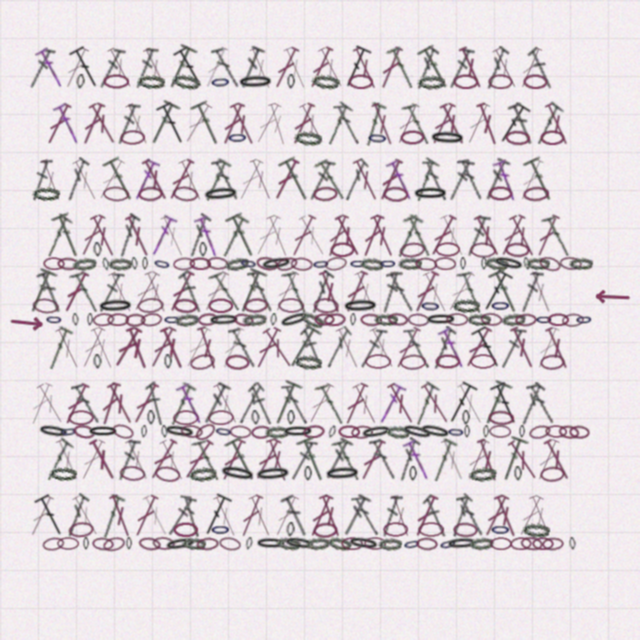chain: (218, 463, 257, 484), (278, 309, 312, 330), (202, 185, 240, 203), (254, 465, 292, 483), (400, 422, 434, 442), (418, 422, 452, 441), (324, 465, 361, 482), (492, 254, 525, 273), (360, 423, 393, 441), (164, 535, 197, 553), (237, 74, 274, 90), (429, 130, 466, 146), (97, 298, 134, 314), (342, 298, 379, 314), (193, 420, 218, 443), (171, 72, 201, 91), (260, 255, 293, 272), (37, 423, 70, 440), (163, 423, 196, 440), (283, 535, 316, 552), (347, 535, 380, 552), (412, 186, 449, 201), (299, 310, 326, 330), (189, 352, 216, 372), (188, 465, 217, 483), (468, 465, 497, 483), (311, 73, 340, 90), (172, 185, 199, 203), (399, 241, 426, 259), (32, 297, 59, 315), (154, 465, 181, 483), (446, 536, 478, 551), (224, 255, 250, 273), (137, 297, 164, 314), (119, 465, 146, 482), (111, 422, 135, 441), (417, 74, 445, 90), (294, 130, 322, 146), (208, 313, 240, 327), (294, 354, 322, 370), (522, 522, 550, 538), (243, 297, 269, 314), (313, 297, 339, 314), (68, 521, 94, 538), (275, 255, 299, 273), (538, 255, 562, 273), (528, 423, 552, 441), (102, 535, 126, 553), (327, 535, 352, 552), (137, 74, 165, 89), (32, 186, 60, 201), (452, 298, 480, 313), (49, 466, 77, 481), (103, 186, 129, 202), (523, 186, 549, 202), (470, 242, 496, 258), (425, 313, 457, 326), (400, 354, 426, 370), (488, 410, 514, 426), (87, 425, 119, 438), (282, 425, 314, 438), (255, 537, 287, 550), (255, 255, 279, 272), (324, 255, 348, 272), (72, 423, 96, 440), (505, 130, 530, 146), (138, 186, 163, 202), (313, 186, 338, 202), (383, 186, 408, 202), (505, 242, 530, 258), (72, 256, 97, 272), (173, 298, 198, 314), (174, 312, 199, 328), (225, 354, 250, 370), (540, 354, 565, 370), (540, 466, 565, 482), (313, 522, 338, 538), (453, 522, 478, 538), (103, 74, 129, 89), (278, 298, 304, 313), (365, 354, 391, 369), (470, 354, 496, 369), (68, 410, 94, 425), (173, 410, 199, 425), (208, 410, 234, 425), (418, 522, 444, 537), (218, 536, 242, 552), (348, 74, 373, 89), (453, 74, 478, 89), (488, 74, 513, 89), (523, 74, 548, 89), (120, 130, 145, 145), (400, 130, 425, 145), (540, 130, 565, 145), (488, 186, 513, 201), (330, 242, 355, 257), (435, 242, 460, 257), (484, 256, 509, 271), (208, 298, 233, 313), (242, 312, 267, 327), (501, 312, 526, 327), (435, 354, 460, 369), (173, 522, 198, 537), (383, 522, 408, 537), (276, 536, 301, 551), (305, 536, 330, 551), (469, 536, 494, 551), (232, 312, 255, 328), (42, 536, 65, 552), (138, 536, 161, 552), (558, 424, 580, 440), (206, 256, 229, 271), (559, 256, 582, 271), (92, 312, 115, 327), (140, 312, 163, 327), (323, 312, 346, 327), (480, 312, 503, 327), (180, 424, 203, 439), (302, 424, 325, 439), (152, 536, 175, 551), (520, 536, 543, 551), (210, 74, 231, 90), (367, 130, 388, 146), (108, 257, 132, 271), (360, 257, 384, 271), (420, 298, 441, 314), (265, 425, 289, 439), (386, 425, 410, 439), (378, 537, 402, 551), (197, 312, 219, 327), (387, 312, 409, 327), (290, 257, 313, 271), (407, 313, 430, 327), (229, 425, 252, 439), (196, 537, 219, 551), (152, 256, 172, 272), (402, 536, 422, 552), (438, 536, 458, 552), (227, 130, 248, 145), (490, 298, 511, 313), (210, 522, 231, 537), (490, 522, 511, 537), (398, 257, 422, 270), (526, 257, 550, 270), (569, 257, 593, 270), (374, 313, 398, 326), (467, 313, 491, 326), (182, 537, 206, 550), (57, 257, 79, 271), (173, 257, 195, 271), (415, 257, 437, 271), (360, 313, 382, 327), (515, 313, 537, 327), (562, 313, 584, 327), (351, 425, 373, 439), (92, 537, 114, 551), (416, 537, 438, 551), (542, 537, 564, 551), (125, 313, 146, 327), (251, 425, 272, 439), (569, 425, 590, 439), (43, 257, 65, 270), (189, 257, 211, 270), (434, 257, 456, 270), (107, 313, 129, 326), (446, 313, 468, 326), (547, 313, 569, 326), (338, 425, 360, 438), (489, 425, 511, 438), (545, 425, 567, 438), (57, 537, 79, 550), (341, 537, 363, 550), (364, 537, 386, 550), (490, 537, 512, 550), (510, 537, 532, 550), (532, 537, 554, 550), (239, 256, 258, 271), (59, 424, 78, 439), (214, 424, 233, 439), (314, 313, 335, 326), (312, 257, 330, 271), (447, 425, 465, 439), (349, 257, 367, 270), (379, 257, 397, 270), (45, 313, 63, 326), (163, 313, 181, 326), (535, 313, 553, 326), (575, 313, 593, 326), (327, 425, 337, 439), (76, 74, 85, 89), (93, 242, 102, 257), (93, 354, 102, 369), (251, 410, 260, 425), (286, 522, 295, 537), (287, 74, 295, 89), (199, 242, 207, 257), (164, 354, 172, 369), (147, 410, 155, 425), (287, 410, 295, 425), (462, 410, 470, 425), (304, 466, 312, 481), (409, 466, 417, 481), (514, 466, 522, 481), (102, 257, 110, 271), (523, 257, 531, 270), (245, 537, 253, 550), (131, 257, 138, 270), (72, 313, 79, 326), (270, 313, 277, 326), (161, 425, 168, 438), (569, 537, 576, 550), (142, 257, 148, 270), (460, 257, 466, 270), (481, 257, 487, 270), (87, 313, 93, 326), (350, 313, 356, 326), (141, 425, 147, 438), (464, 425, 470, 438), (483, 425, 489, 438), (519, 425, 525, 438), (83, 537, 89, 550), (126, 537, 132, 550)
double: (284, 324, 322, 371), (494, 101, 532, 147), (172, 44, 209, 91), (417, 44, 454, 91), (102, 156, 139, 203), (224, 436, 261, 483), (68, 44, 104, 91), (145, 100, 181, 147), (278, 156, 314, 203), (478, 268, 514, 315), (470, 324, 506, 371), (443, 380, 479, 427), (33, 492, 69, 539), (163, 44, 198, 91), (155, 100, 190, 147), (190, 100, 225, 147), (523, 156, 558, 203), (225, 212, 260, 259), (488, 268, 523, 315), (208, 269, 244, 314), (180, 437, 216, 482), (313, 157, 348, 203), (339, 44, 373, 91), (51, 212, 85, 259), (24, 268, 58, 315), (234, 268, 268, 315), (269, 380, 303, 427), (479, 380, 513, 427), (489, 380, 523, 427), (296, 436, 330, 483), (199, 492, 233, 539), (260, 326, 296, 370), (505, 438, 541, 482), (180, 101, 215, 146), (295, 213, 330, 258), (443, 269, 478, 314), (110, 325, 145, 370), (33, 381, 68, 426), (418, 381, 453, 426), (531, 101, 565, 147), (216, 213, 250, 259), (314, 381, 348, 427), (41, 437, 75, 483), (86, 101, 120, 146), (251, 101, 285, 146), (94, 157, 128, 202), (129, 269, 163, 314), (461, 325, 495, 370), (384, 381, 418, 426), (86, 437, 120, 482), (146, 437, 180, 482), (69, 493, 103, 538), (139, 45, 172, 91), (489, 45, 522, 91), (401, 101, 434, 147), (69, 157, 102, 203), (199, 157, 232, 203), (234, 157, 267, 203), (41, 213, 74, 259), (391, 213, 424, 259), (506, 213, 539, 259), (541, 213, 574, 259), (59, 269, 92, 315), (69, 269, 102, 315), (419, 269, 452, 315), (251, 325, 284, 371), (391, 325, 424, 371), (164, 381, 197, 427), (199, 381, 232, 427), (349, 381, 382, 427), (76, 437, 109, 483), (156, 437, 189, 483), (191, 437, 224, 483), (331, 437, 364, 483), (356, 437, 389, 483), (339, 493, 372, 539), (514, 493, 547, 539), (497, 436, 529, 483), (34, 45, 67, 90), (104, 45, 137, 90), (296, 101, 329, 146), (139, 157, 172, 202), (164, 157, 197, 202), (251, 213, 284, 258), (426, 213, 459, 258), (471, 213, 504, 258), (146, 325, 179, 370), (181, 325, 214, 370), (366, 325, 399, 370), (104, 381, 137, 426), (129, 381, 162, 426), (304, 381, 337, 426), (454, 381, 487, 426), (251, 437, 284, 482), (321, 437, 354, 482), (541, 437, 574, 482), (60, 45, 92, 91), (270, 45, 302, 91), (385, 45, 417, 91), (42, 101, 74, 147), (227, 101, 259, 147), (322, 101, 354, 147), (427, 101, 459, 147), (437, 101, 469, 147), (175, 157, 207, 203), (350, 157, 382, 203), (515, 157, 547, 203), (87, 213, 119, 259), (122, 213, 154, 259), (157, 213, 189, 259), (287, 213, 319, 259), (402, 213, 434, 259), (105, 269, 137, 315), (410, 269, 442, 315), (42, 325, 74, 371), (52, 325, 84, 371), (332, 325, 364, 371), (60, 381, 92, 427), (25, 493, 57, 539), (270, 493, 302, 539), (280, 493, 312, 539), (480, 493, 512, 539), (315, 45, 347, 90), (270, 157, 302, 202), (332, 213, 364, 258), (165, 269, 197, 314), (200, 269, 232, 314), (270, 269, 302, 314), (210, 381, 242, 426), (375, 381, 407, 426), (140, 493, 172, 538), (280, 45, 311, 91), (350, 45, 381, 91), (515, 45, 546, 91), (122, 101, 153, 147), (392, 101, 423, 147), (507, 101, 538, 147), (542, 101, 573, 147), (375, 157, 406, 203), (410, 157, 441, 203), (367, 213, 398, 259), (532, 213, 563, 259), (87, 325, 118, 371), (157, 325, 188, 371), (532, 325, 563, 371), (542, 325, 573, 371), (340, 381, 371, 427), (410, 381, 441, 427), (217, 437, 248, 483), (427, 437, 458, 483), (462, 437, 493, 483), (532, 437, 563, 483), (130, 493, 161, 539), (210, 493, 241, 539), (245, 493, 276, 539), (305, 493, 336, 539), (410, 493, 441, 539), (165, 494, 197, 538), (305, 45, 336, 90), (52, 101, 83, 146), (462, 101, 493, 146), (130, 157, 161, 202), (385, 157, 416, 202), (77, 213, 108, 258), (147, 213, 178, 258), (437, 213, 468, 258), (497, 213, 528, 258), (77, 325, 108, 370), (437, 325, 468, 370), (507, 325, 538, 370), (175, 381, 206, 426), (122, 437, 153, 482), (402, 437, 433, 482), (236, 45, 266, 91), (246, 45, 276, 91), (376, 45, 406, 91), (78, 101, 108, 147), (218, 101, 248, 147), (288, 101, 318, 147), (368, 101, 398, 147), (481, 157, 511, 203), (263, 213, 293, 259), (36, 269, 66, 315), (141, 269, 171, 315), (281, 269, 311, 315), (341, 269, 371, 315), (351, 269, 381, 315), (456, 269, 486, 315), (526, 269, 556, 315), (26, 381, 56, 427), (96, 493, 126, 539), (236, 493, 266, 539), (491, 493, 521, 539), (357, 326, 388, 370), (201, 45, 231, 90), (456, 45, 486, 90), (246, 157, 276, 202), (53, 437, 83, 482), (438, 437, 468, 482), (473, 101, 502, 147), (193, 213, 222, 259), (323, 213, 352, 259), (358, 213, 387, 259), (316, 269, 345, 315), (123, 325, 152, 371), (218, 325, 247, 371), (263, 437, 292, 483), (106, 493, 135, 539), (316, 493, 345, 539), (526, 493, 555, 539), (235, 382, 266, 425), (26, 46, 56, 90), (96, 46, 126, 90), (211, 46, 241, 90), (526, 46, 556, 90), (306, 158, 336, 202), (71, 382, 101, 426), (246, 382, 276, 426), (516, 382, 546, 426), (526, 382, 556, 426), (288, 438, 318, 482), (298, 325, 327, 370), (323, 326, 353, 369), (351, 494, 381, 537), (359, 101, 387, 147), (37, 157, 65, 203), (492, 157, 520, 203), (474, 437, 502, 483), (387, 493, 415, 539), (411, 46, 440, 90), (446, 46, 475, 90), (481, 46, 510, 90), (333, 102, 362, 146), (211, 158, 240, 202), (341, 158, 370, 202), (446, 158, 475, 202), (96, 270, 125, 314), (306, 270, 335, 314), (386, 270, 415, 314), (228, 326, 257, 370), (403, 326, 432, 370), (428, 326, 457, 370), (498, 326, 527, 370), (281, 382, 310, 426), (421, 494, 450, 538), (456, 494, 485, 538), (62, 157, 90, 202), (184, 213, 212, 258), (177, 269, 205, 314), (369, 437, 397, 482), (62, 493, 90, 538), (264, 101, 291, 147), (194, 325, 221, 371), (97, 381, 124, 427), (132, 45, 159, 90), (114, 101, 141, 146), (457, 157, 484, 202), (114, 213, 141, 258), (464, 213, 491, 258), (247, 269, 274, 314), (394, 437, 421, 482), (422, 158, 449, 202), (518, 269, 544, 314), (115, 437, 141, 482), (448, 493, 474, 538), (29, 157, 53, 202), (379, 269, 403, 314), (379, 493, 403, 538), (144, 381, 167, 426), (180, 493, 202, 538)
noise: (9, 314, 45, 331), (593, 289, 630, 304)
